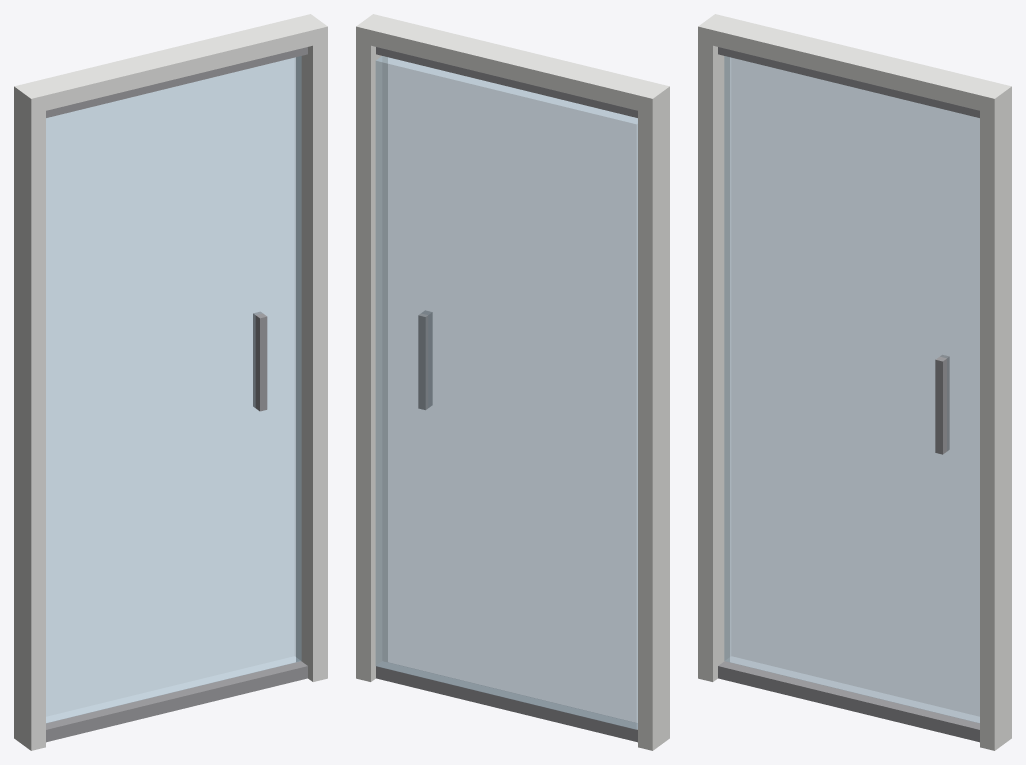
The model's file is mod_door_slide_single.glb.
The picture shows the model from 3 angles, left to right: view 1: azimuth 30°, elevation 25°; view 2: azimuth 150°, elevation 25°; view 3: azimuth 330°, elevation 25°; orthographic projection.
Visible parts, largest first — view 1: leaf_main, frame_left, frame_right, frame_top, rail_bottom, rail_top, handle; view 2: leaf_main, frame_left, frame_right, frame_top, rail_bottom, rail_top, handle; view 3: leaf_main, frame_right, frame_left, frame_top, rail_bottom, rail_top, handle.
Boxes of the visible parts, x1,y1,x2,y2 form: leaf_main: (46, 56, 301, 723); frame_left: (14, 83, 45, 750); frame_right: (296, 14, 327, 681); frame_top: (14, 14, 327, 113); rail_bottom: (46, 661, 307, 742); rail_top: (46, 47, 307, 117); handle: (253, 311, 267, 411); leaf_main: (375, 56, 637, 729); frame_left: (638, 83, 669, 750); frame_right: (356, 14, 387, 681); frame_top: (356, 14, 669, 113); rail_bottom: (376, 661, 637, 742); rail_top: (376, 47, 637, 117); handle: (418, 310, 432, 409); leaf_main: (724, 56, 979, 723); frame_right: (980, 83, 1011, 750); frame_left: (698, 14, 729, 681); frame_top: (698, 14, 1011, 112); rail_bottom: (718, 661, 979, 742); rail_top: (718, 47, 979, 117); handle: (935, 355, 949, 454).
Bounding box in the file's own units: 1 × 2.1 × 0.1.
